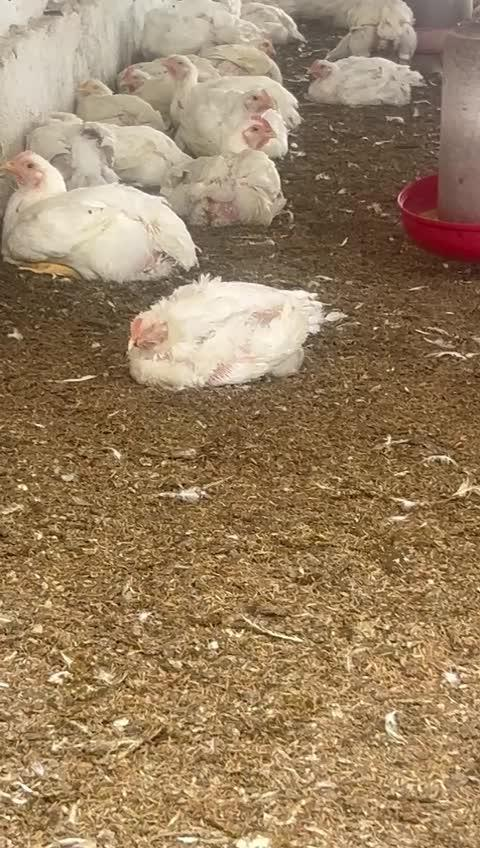AbNormal: (6, 153, 195, 286), (127, 275, 318, 387), (165, 115, 279, 226), (309, 56, 424, 106)
